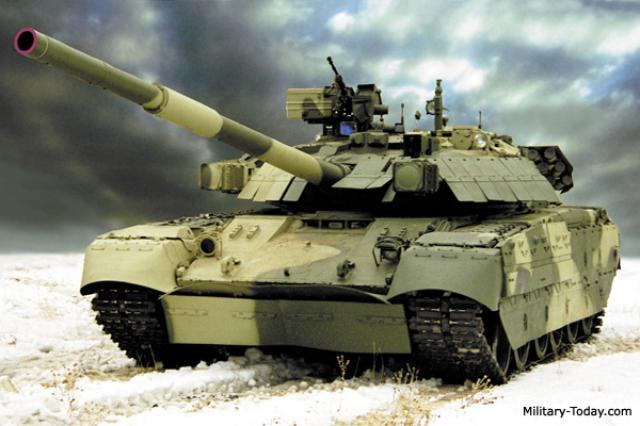tank: (94, 98, 616, 370)
